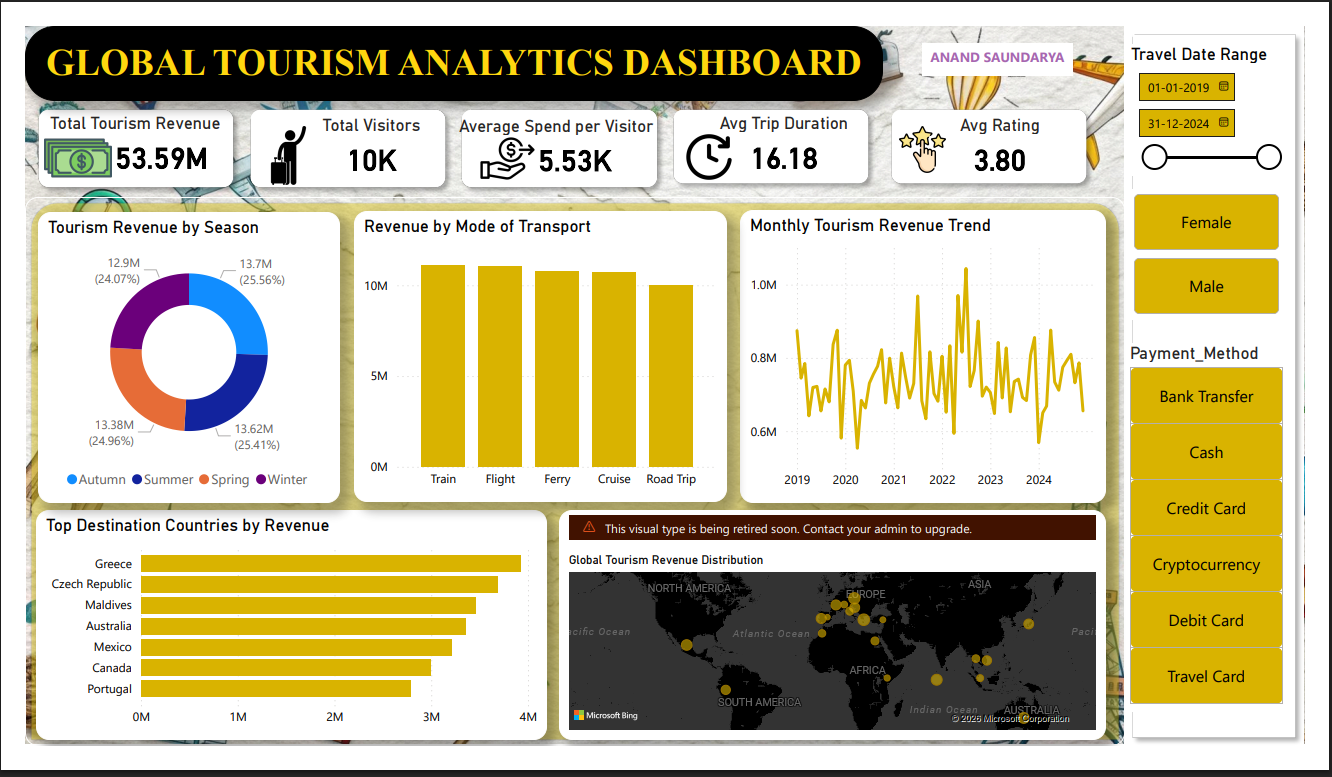

The dashboard page shown, as its layout file describes it:
{"tool":"powerbi","page":{"name":"Dashboard","canvas":[1280,720],"ordinal":0},"visuals":[{"type":"shape","box":[0,171.4,1100,548.6],"z":0},{"type":"shape","box":[5,75,212,95],"z":1000},{"type":"textbox","box":[0,0,857.7,74.8],"z":2000},{"type":"card","title":"Total Tourism Revenue","fields":{"Values":["Sum(global_tourism_travel_patterns_10k (2).Total_Spend_USD)"]},"box":[19.6,87.1,231.9,67.5],"z":3000},{"type":"shape","box":[1099.4,0,179.1,720.2],"z":4000},{"type":"image","box":[19.2,96.9,67.7,69.2],"z":5000},{"type":"clusteredBarChart","title":"Top Destination Countries by Revenue","fields":{"Category":["global_tourism_travel_patterns_10k (2).Destination_Country"],"Y":["Sum(global_tourism_travel_patterns_10k (2).Total_Spend_USD)"]},"box":[10.8,484.2,510.8,230],"z":6000},{"type":"slicer","title":"Travel Date Range","fields":{"Values":["global_tourism_travel_patterns_10k (2).Travel_Date"]},"box":[1101.4,17.8,163.7,132],"z":7000},{"type":"advancedSlicerVisual","fields":{"Values":["global_tourism_travel_patterns_10k (2).Payment_Method"]},"box":[1100.1,317.2,163.7,369.2],"z":8000},{"type":"shape","box":[217,75,212,95],"z":9000},{"type":"donutChart","title":"Tourism Revenue by Season","fields":{"Category":["global_tourism_travel_patterns_10k (2).Season"],"Y":["Sum(global_tourism_travel_patterns_10k (2).Total_Spend_USD)"]},"box":[13.3,185.8,301.7,290.8],"z":10000},{"type":"shape","box":[428,75,213,95],"z":11000},{"type":"lineChart","title":"Monthly Tourism Revenue Trend","fields":{"Category":["global_tourism_travel_patterns_10k.Travel_Date.Variation.Date Hierarchy.Year","global_tourism_travel_patterns_10k.Travel_Date.Variation.Date Hierarchy.Month"],"Y":["Sum(global_tourism_travel_patterns_10k (2).Total_Spend_USD)"]},"box":[715,184.2,365.8,292.5],"z":12000},{"type":"columnChart","title":"Revenue by Mode of Transport","fields":{"Category":["global_tourism_travel_patterns_10k.Travel_Mode"],"Y":["Sum(global_tourism_travel_patterns_10k.Total_Spend_USD)"]},"box":[329.2,185,372.5,290.8],"z":13000},{"type":"shape","box":[640,75,212,91],"z":14000},{"type":"shape","box":[858,75,212,91],"z":15000},{"type":"map","title":"Global Tourism Revenue Distribution","fields":{"Category":["global_tourism_travel_patterns_10k.Destination_Country"],"Size":["Sum(global_tourism_travel_patterns_10k.Total_Spend_USD)"]},"box":[534.2,484.2,546.7,230],"z":16000},{"type":"card","title":"Total Visitors","fields":{"Values":["global_tourism_travel_patterns_10k.Total Visitors"]},"box":[278,89,137,68],"z":17000},{"type":"card","title":"Average Spend per Visitor","fields":{"Values":["global_tourism_travel_patterns_10k.Avg Spend"]},"box":[429.5,89.6,240.5,67.5],"z":18000},{"type":"card","title":"Avg Trip Duration","fields":{"Values":["global_tourism_travel_patterns_10k.Avg Duration"]},"box":[674,87,170,68],"z":19000},{"type":"card","title":"Avg Rating","fields":{"Values":["global_tourism_travel_patterns_10k.Avg Rating"]},"box":[897,89,156,68],"z":20000},{"type":"image","box":[234.3,88.6,58.6,81.4],"z":21000},{"type":"image","box":[443,104,78,57],"z":22000},{"type":"image","box":[873.9,96.7,46.7,53.3],"z":23000},{"type":"image","box":[660,97.1,47.9,66.4],"z":24000},{"type":"advancedSlicerVisual","fields":{"Values":["global_tourism_travel_patterns_10k.Traveler_Gender"]},"box":[1104.3,163.2,155.8,131.3],"z":25000},{"type":"textbox","box":[896.9,17.2,150.9,33.1],"z":26000}]}

Visuals, with their boxes on the page's 1280x720 design canvas (x1, y1, x2, y2). These are canvas units, not pixel positions in the 1332x777 screenshot, which may show the page scaled, cropped or inside an application window:
shape: left=0, top=171, right=1100, bottom=720
shape: left=5, top=75, right=217, bottom=170
textbox: left=0, top=0, right=858, bottom=75
"Total Tourism Revenue" card: left=20, top=87, right=252, bottom=155
shape: left=1099, top=0, right=1278, bottom=720
image: left=19, top=97, right=87, bottom=166
"Top Destination Countries by Revenue" clusteredBarChart: left=11, top=484, right=522, bottom=714
"Travel Date Range" slicer: left=1101, top=18, right=1265, bottom=150
advancedSlicerVisual - global_tourism_travel_patterns_10k (2).Payment_Method: left=1100, top=317, right=1264, bottom=686
shape: left=217, top=75, right=429, bottom=170
"Tourism Revenue by Season" donutChart: left=13, top=186, right=315, bottom=477
shape: left=428, top=75, right=641, bottom=170
"Monthly Tourism Revenue Trend" lineChart: left=715, top=184, right=1081, bottom=477
"Revenue by Mode of Transport" columnChart: left=329, top=185, right=702, bottom=476
shape: left=640, top=75, right=852, bottom=166
shape: left=858, top=75, right=1070, bottom=166
"Global Tourism Revenue Distribution" map: left=534, top=484, right=1081, bottom=714
"Total Visitors" card: left=278, top=89, right=415, bottom=157
"Average Spend per Visitor" card: left=430, top=90, right=670, bottom=157
"Avg Trip Duration" card: left=674, top=87, right=844, bottom=155
"Avg Rating" card: left=897, top=89, right=1053, bottom=157
image: left=234, top=89, right=293, bottom=170
image: left=443, top=104, right=521, bottom=161
image: left=874, top=97, right=921, bottom=150
image: left=660, top=97, right=708, bottom=164
advancedSlicerVisual - global_tourism_travel_patterns_10k.Traveler_Gender: left=1104, top=163, right=1260, bottom=294
textbox: left=897, top=17, right=1048, bottom=50
